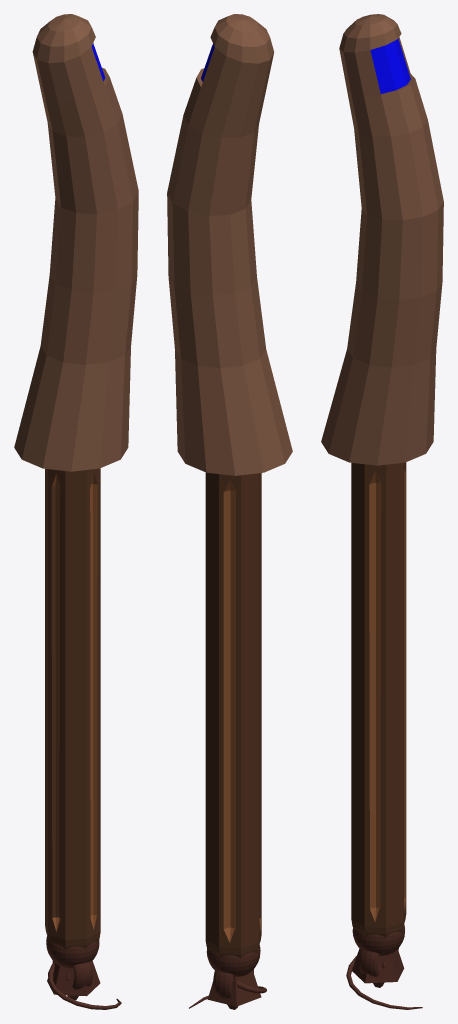
The model's file is Wand 542.glb.
The picture shows the model from 3 angles, left to right: view 1: azimuth 30°, elevation 25°; view 2: azimuth 150°, elevation 25°; view 3: azimuth 330°, elevation 25°; orthographic projection. The views are drawn at different scales.
Visible parts, largest first — view 1: GeneratedWand, Pommel_4, Pommel_9, Pommel_10, Pommel_2; view 2: GeneratedWand, Pommel_4, Pommel_9, Pommel_2; view 3: GeneratedWand, Pommel_9, Pommel_4, Pommel_2, Pommel_10.
Boxes of the visible parts, x1=… form: GeneratedWand: x1=14, y1=14, x2=138, y2=949; Pommel_4: x1=46, y1=936, x2=99, y2=968; Pommel_9: x1=47, y1=961, x2=100, y2=996; Pommel_10: x1=48, y1=962, x2=121, y2=1009; Pommel_2: x1=52, y1=960, x2=92, y2=989; GeneratedWand: x1=167, y1=14, x2=292, y2=958; Pommel_4: x1=206, y1=944, x2=260, y2=976; Pommel_9: x1=207, y1=970, x2=261, y2=1006; Pommel_2: x1=213, y1=969, x2=253, y2=998; GeneratedWand: x1=321, y1=14, x2=443, y2=937; Pommel_9: x1=352, y1=948, x2=404, y2=983; Pommel_4: x1=352, y1=924, x2=404, y2=956; Pommel_2: x1=359, y1=948, x2=398, y2=976; Pommel_10: x1=346, y1=956, x2=422, y2=1009.
Bounding box in the file's own units: 0.0644 × 0.5485 × 0.0572.
